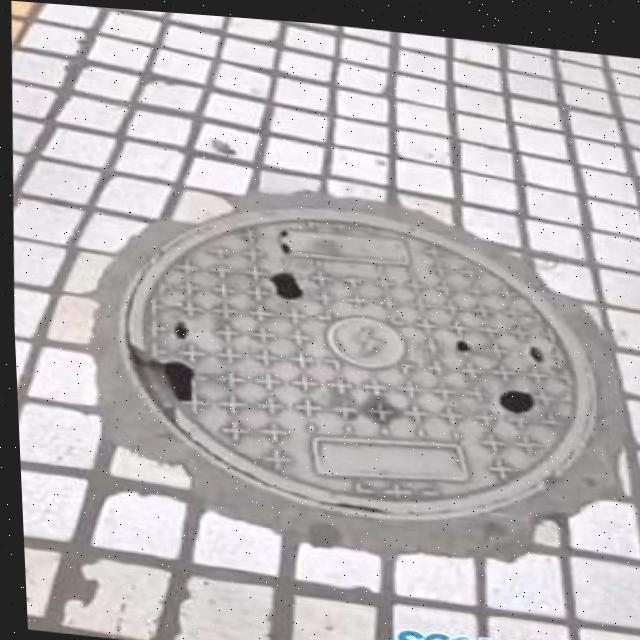manhole: (83, 168, 629, 542)
